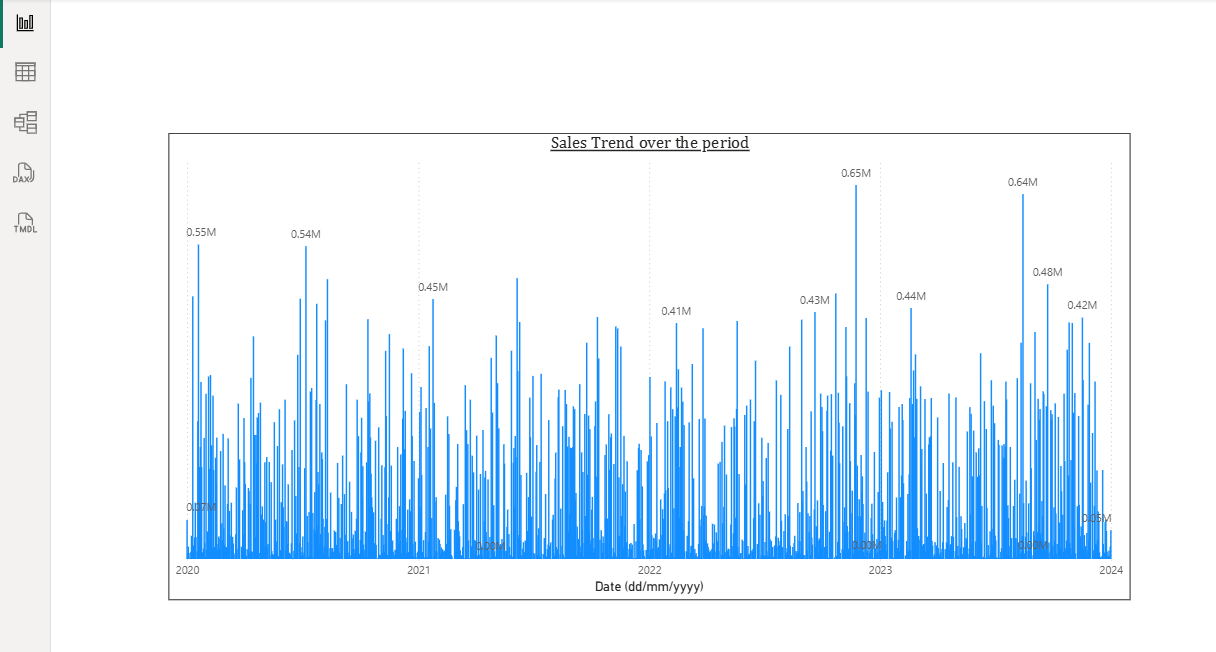

This screenshot's page, from the dashboard's own definition file:
{"tool":"powerbi","page":{"name":"Sales trend overview","canvas":[1280,720],"ordinal":1},"visuals":[{"type":"columnChart","title":"Sales Trend over the period","fields":{"Category":["Fact table.Date (dd/mm/yyyy)"],"Y":["Sum(Fact table.Net sales)"]},"box":[128.6,148.6,1055.7,512.9],"z":0}]}

Visuals, with their boxes on the page's 1280x720 design canvas (x1, y1, x2, y2). These are canvas units, not pixel positions in the 1216x652 screenshot, which may show the page scaled, cropped or inside an application window:
"Sales Trend over the period" columnChart: crop(129, 149, 1184, 662)
